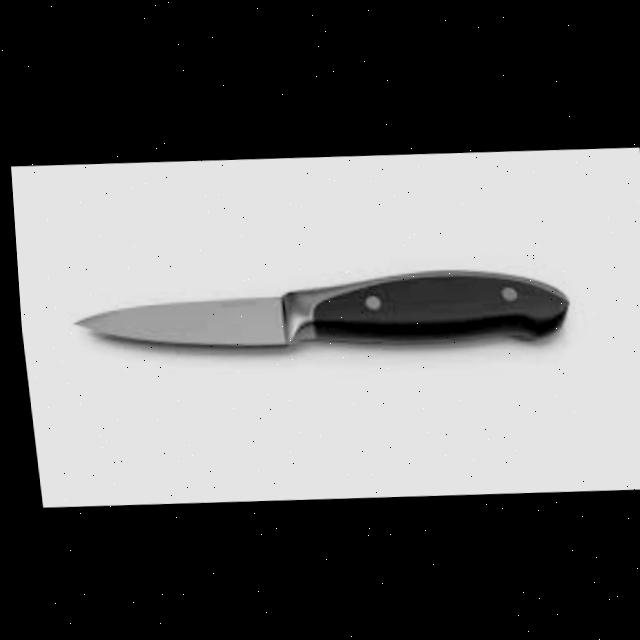Knife: (63, 252, 570, 362)
